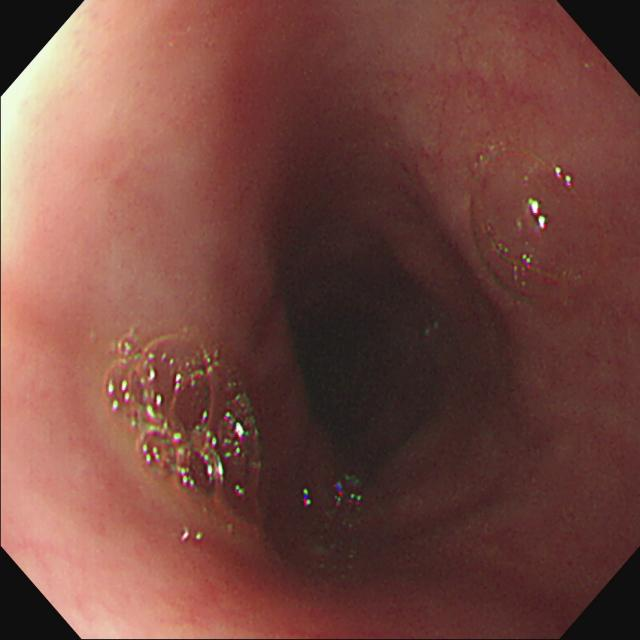E: (292, 283, 401, 438)
T: (103, 334, 264, 508), (472, 150, 600, 304)
